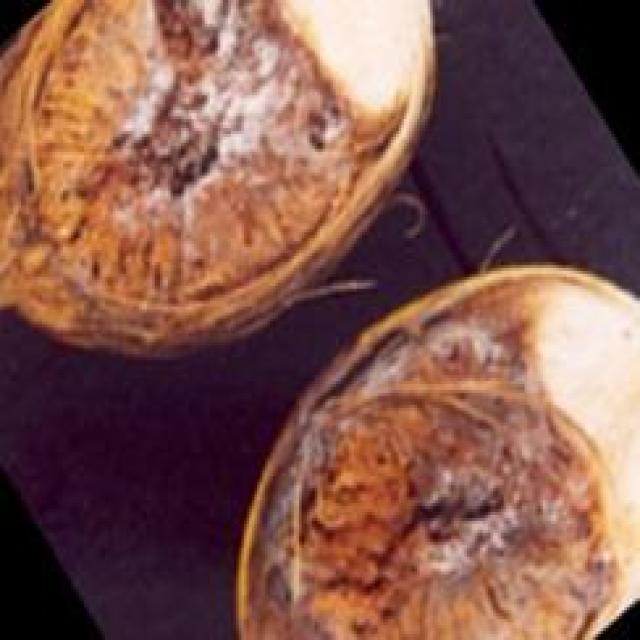damaged: (0, 0, 433, 351), (239, 265, 637, 637)
